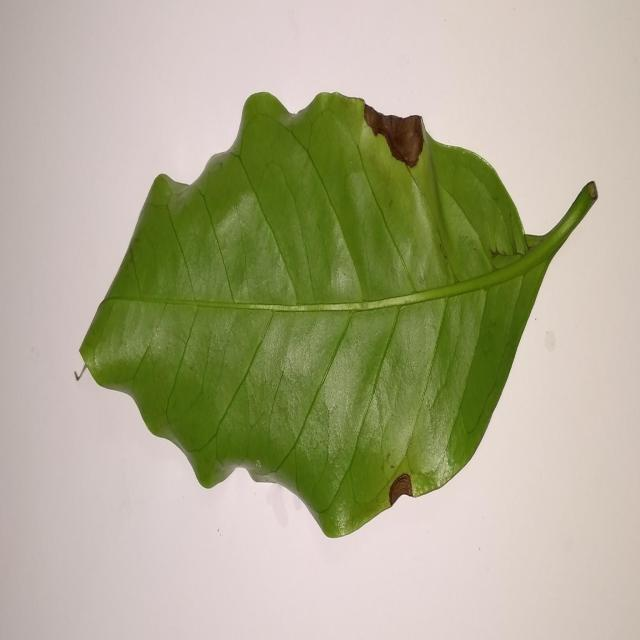phoma: (364, 104, 424, 170), (389, 473, 418, 507)
